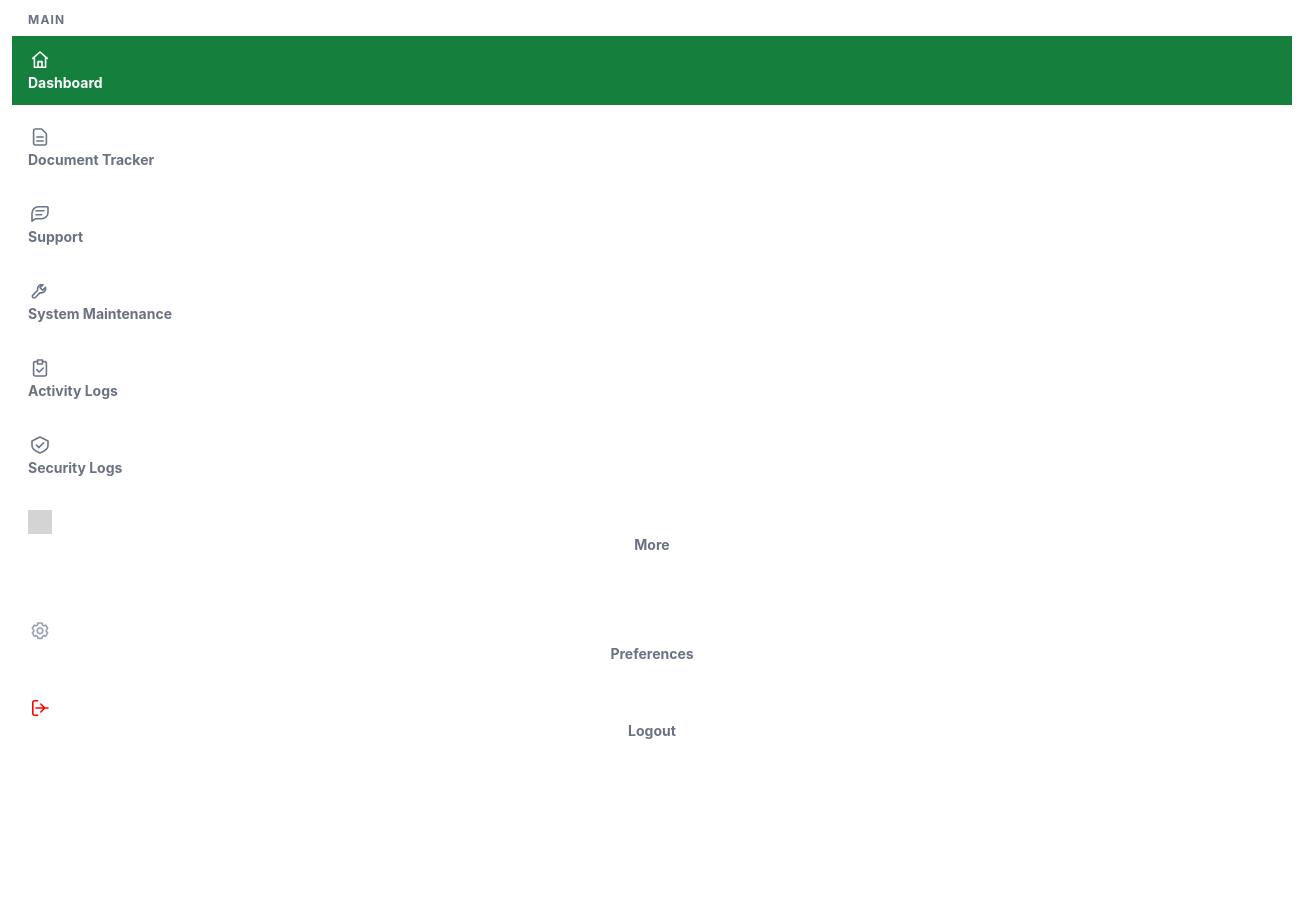
Test: SidebarNav › places More seventh after six Admin destinations and exposes all overflow
The image size is (1304, 912).
Expected: the number of links is 6, [12,36,1292,105]; [28,125,154,168]; [28,202,83,245]; [28,279,172,322]; [28,356,118,399]; [28,433,122,476]
Expected: the link "Support" is shown, [28,202,83,245]
Click the button "More".
click(652, 544)  # box [12,498,1292,567]
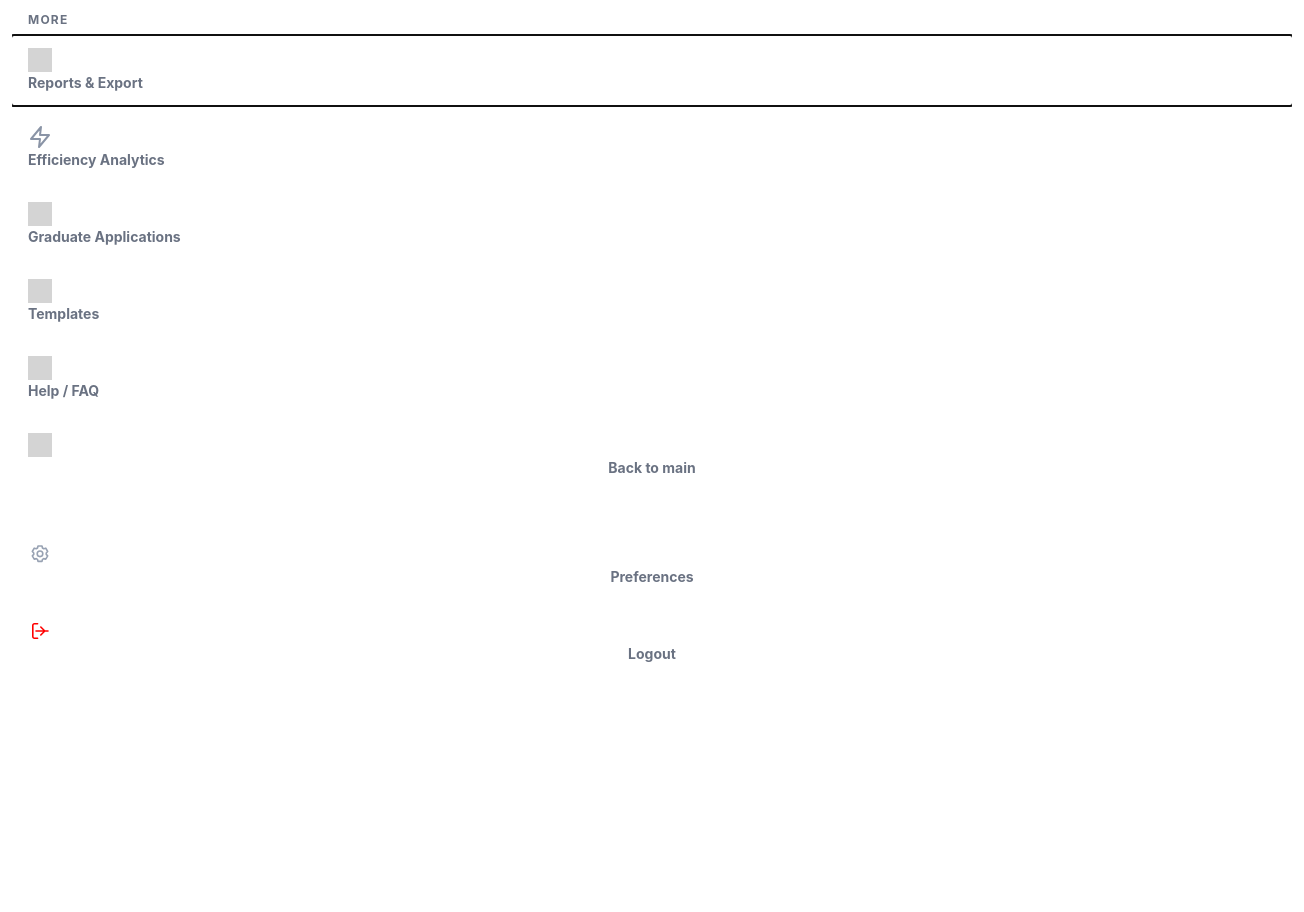
Expected: the number of links is 5, [28,48,143,91]; [28,125,165,168]; [28,202,181,245]; [28,279,99,322]; [28,356,99,399]
Expected: the button "Back to main" is shown, [12,421,1292,490]
